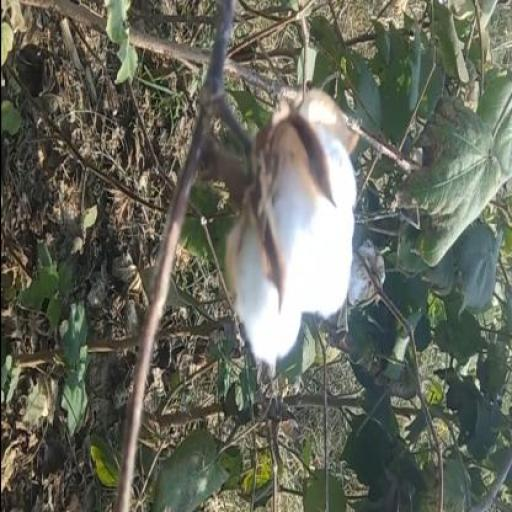cotton_ready: (208, 55, 362, 331)
